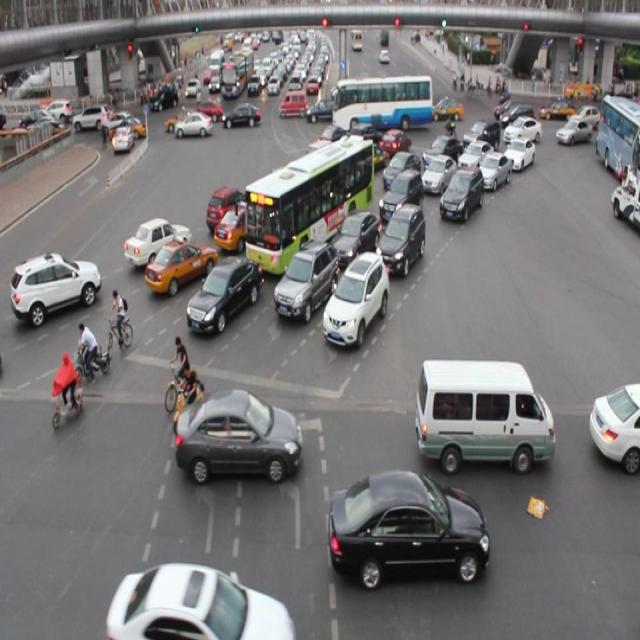car: (328, 468, 488, 587), (105, 560, 295, 640), (176, 388, 302, 481), (11, 251, 103, 324), (323, 249, 388, 344), (186, 254, 260, 331), (274, 239, 337, 318), (589, 384, 640, 475), (146, 240, 218, 296), (375, 201, 425, 275), (125, 214, 191, 266), (331, 210, 381, 270), (212, 201, 274, 249), (378, 168, 421, 224), (276, 180, 332, 222), (438, 166, 481, 218), (262, 167, 312, 209), (205, 188, 252, 232), (382, 149, 422, 192), (330, 156, 377, 192), (462, 120, 499, 163), (422, 135, 462, 173), (501, 115, 542, 150), (476, 150, 510, 191), (420, 154, 454, 194), (458, 140, 493, 178), (349, 142, 388, 174), (316, 126, 352, 160), (378, 127, 410, 163), (347, 122, 382, 154), (504, 136, 533, 172)
truck: (415, 358, 553, 469), (300, 142, 349, 180)
van: (244, 139, 373, 273)
